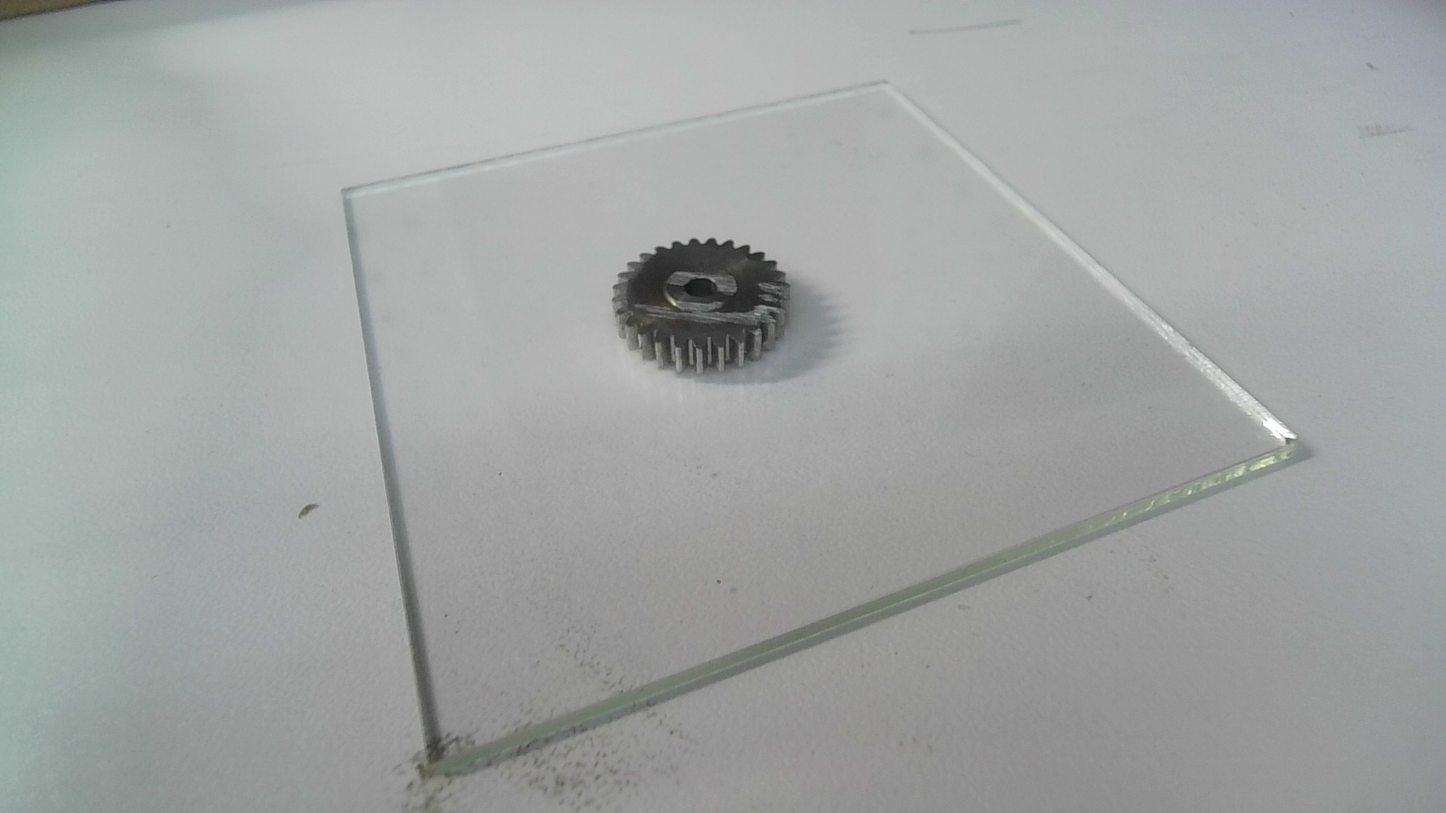gear: (610, 237, 793, 378)
